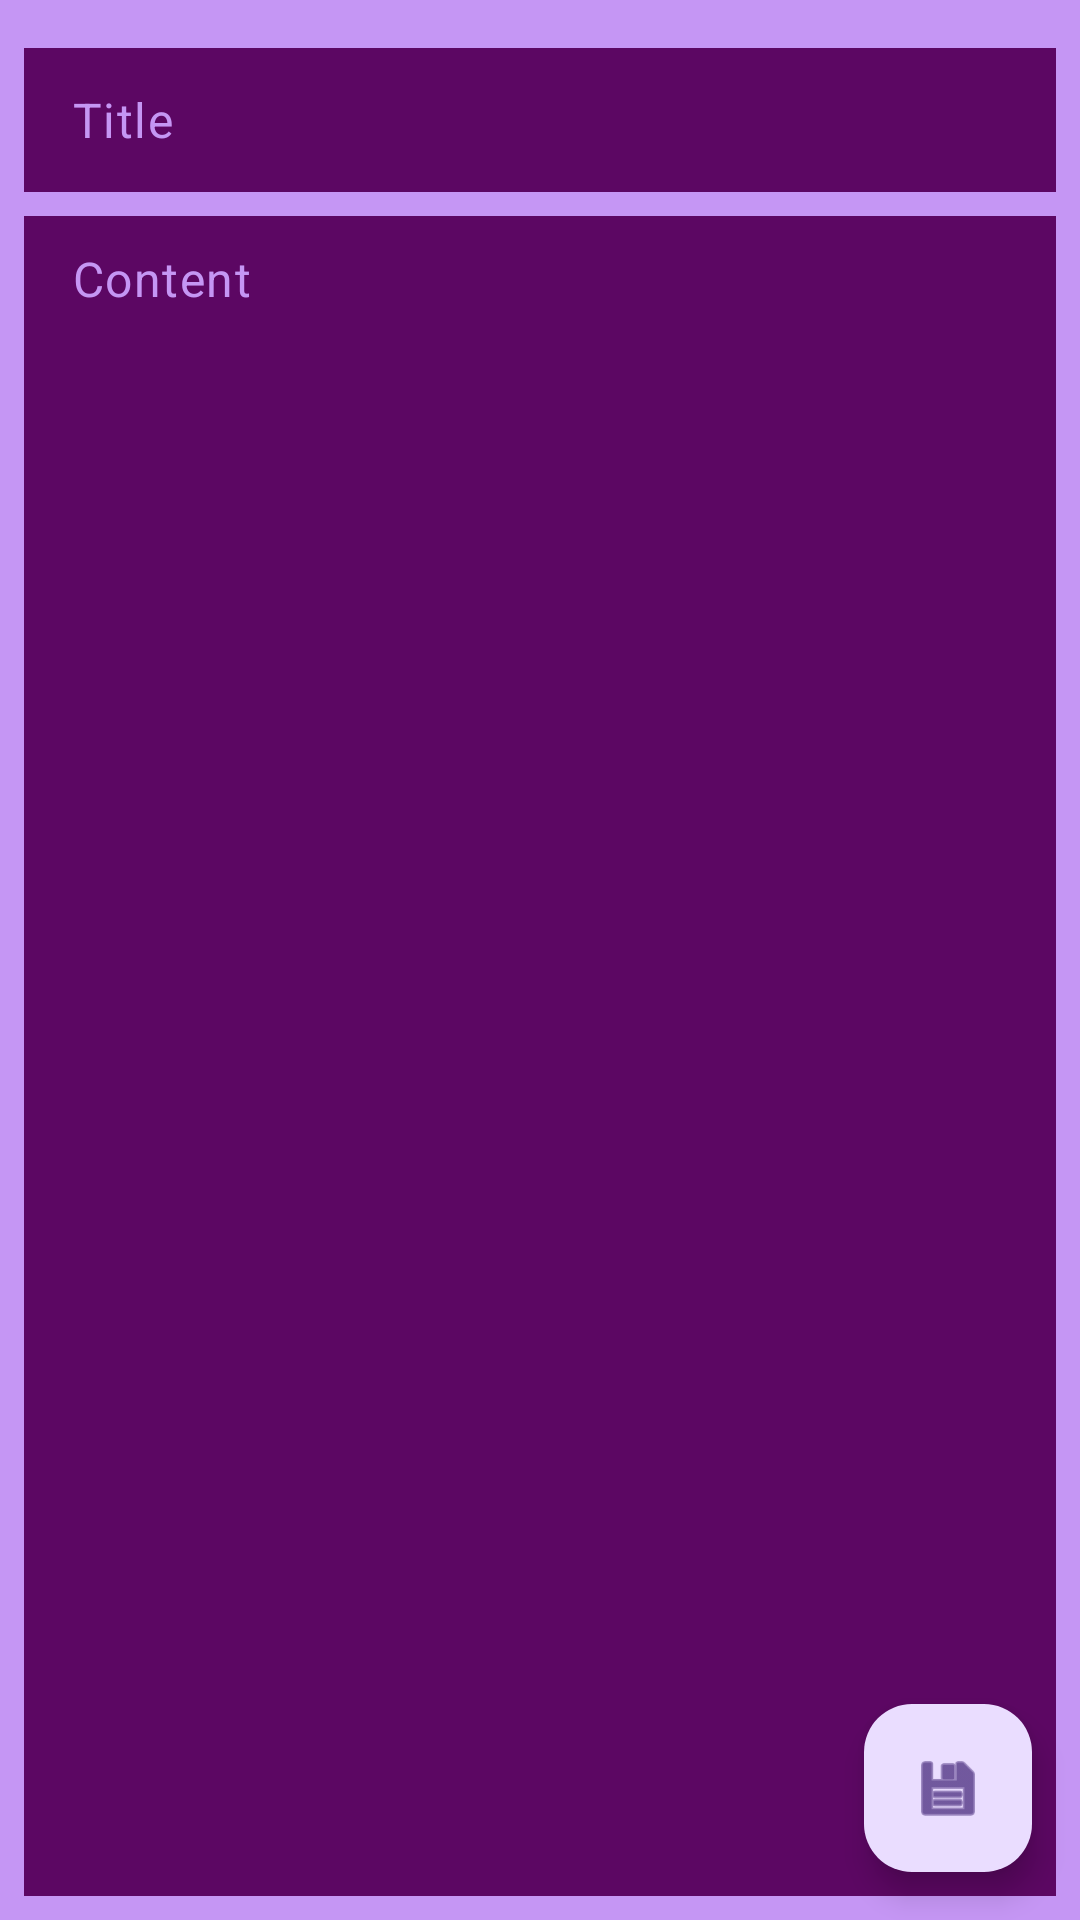

Where to tap for icons on this 1080×1920 app screen, as point (x, y):
Save note: point (948, 1788)
